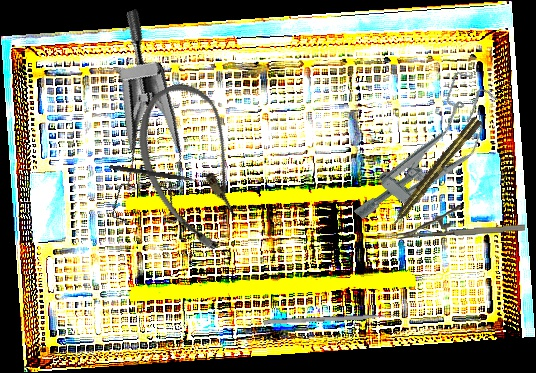Cannula: (116, 71, 273, 262)
Handpiece: (385, 115, 484, 232)
Hook Surgical: (109, 164, 210, 185)
Needle Holder: (394, 202, 526, 240)
Pusher: (263, 312, 406, 325)
Speculum: (41, 8, 221, 244), (342, 65, 513, 246)
